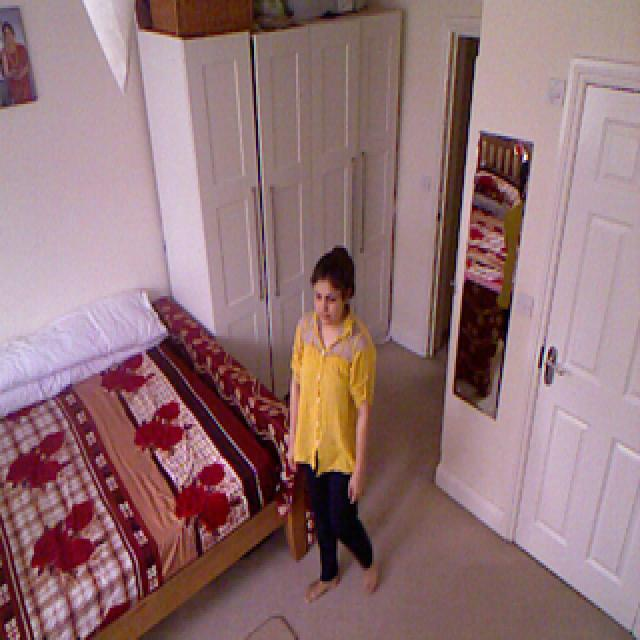standing: (286, 239, 391, 605)
